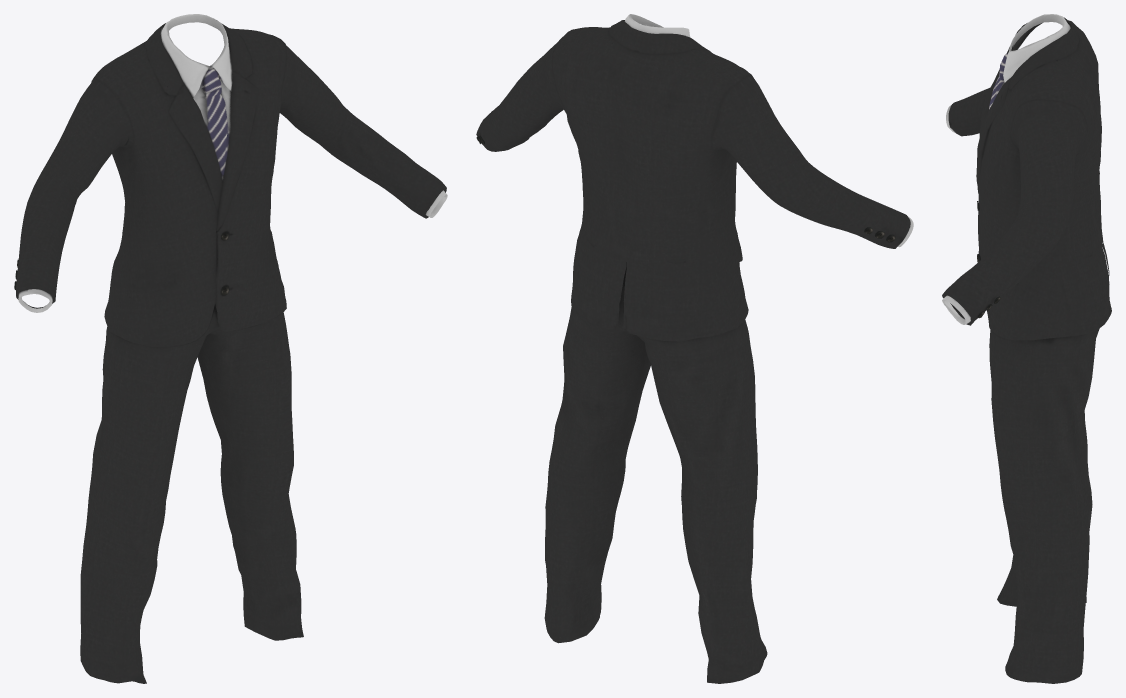
Rendered from original_player_static_probe.glb.
3 renders of one model, left to right at view 1: azimuth 30°, elevation 25°; view 2: azimuth 150°, elevation 25°; view 3: azimuth 270°, elevation 25°, orthographic. The views are drawn at different scales.
Visible parts, largest first — view 1: male_elegantsuit01_unskinned; view 2: male_elegantsuit01_unskinned; view 3: male_elegantsuit01_unskinned.
Part boxes in pixels (left/top/right/bottom): male_elegantsuit01_unskinned: left=14, top=14, right=447, bottom=683; male_elegantsuit01_unskinned: left=476, top=14, right=913, bottom=683; male_elegantsuit01_unskinned: left=942, top=14, right=1111, bottom=683.
Size of the model in its own units: 1.05 by 1.48 by 0.3688.
Materials: 1 (1 with a texture image).
